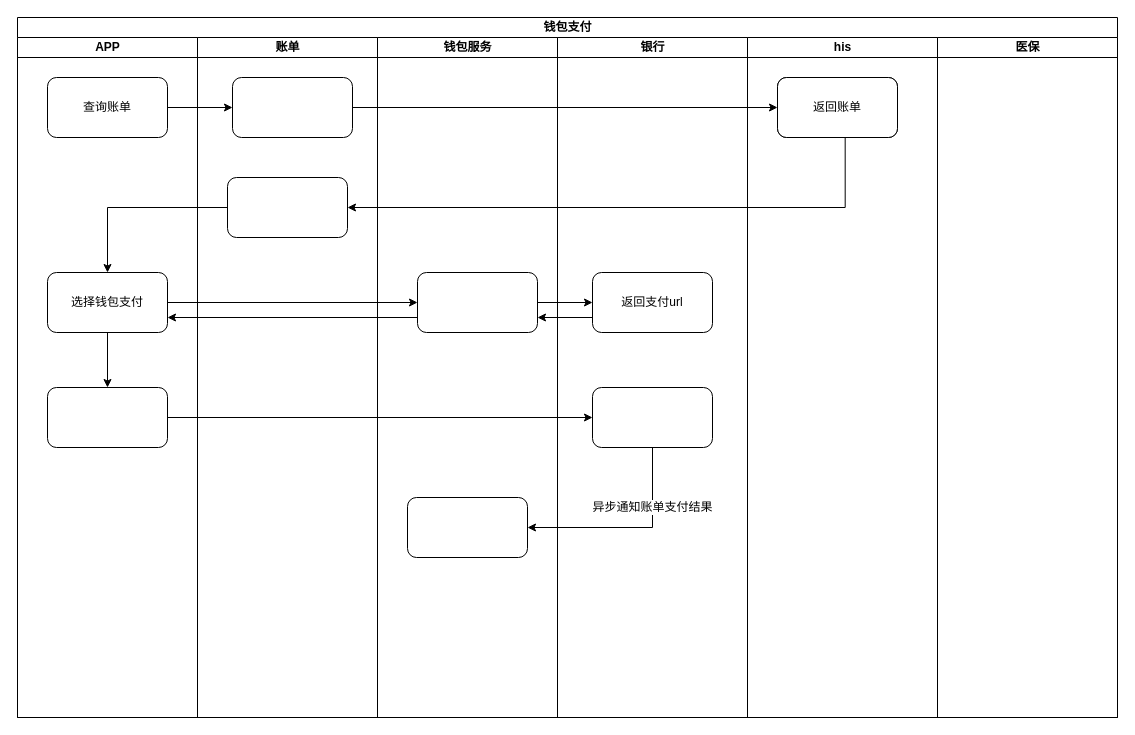
Image size: 1135x735. Some labels were removed from this diagram. Here are the shapes that lost their labels. From the top down, the centre of each, then its label:
the point at 292,107: 获取账单
the point at 287,207: 生成订单
the point at 477,302: 获取支付url
the point at 107,417: 调用支付url
the point at 652,417: 完成支付
the point at 467,527: 自费支付成功后扣医保
